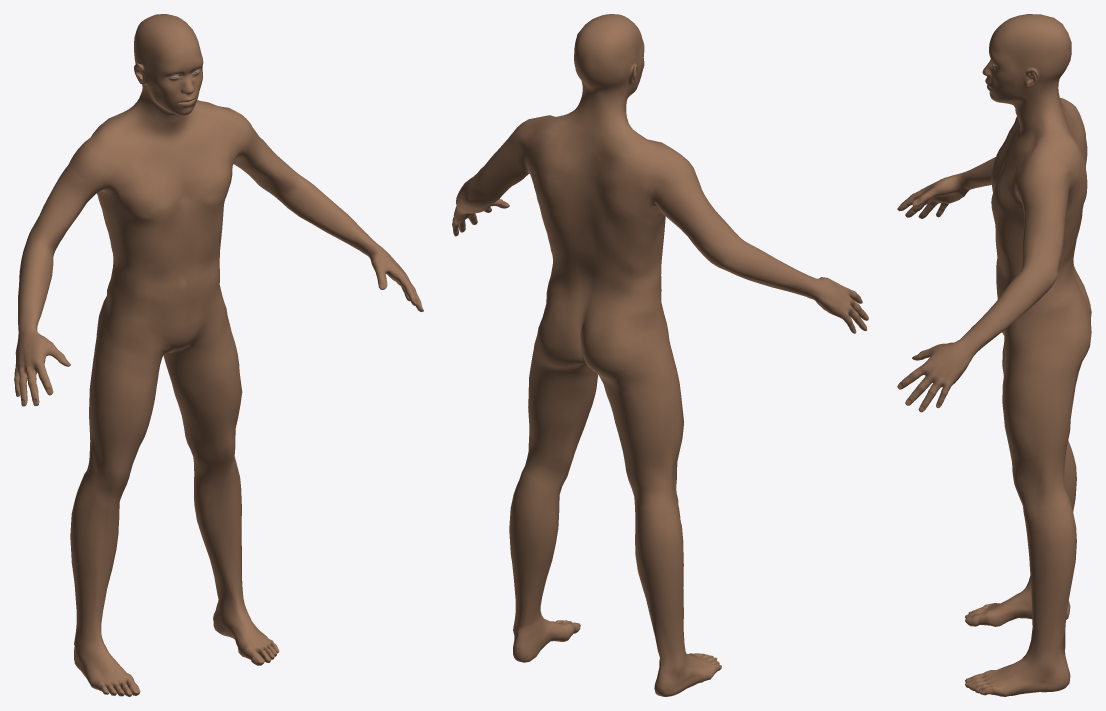
Rendered from male_data.obj.
3 renders of one model, left to right at view 1: azimuth 30°, elevation 25°; view 2: azimuth 150°, elevation 25°; view 3: azimuth 270°, elevation 25°, orthographic.
Parts seen in each view (by area): view 1: base.obj; view 2: base.obj; view 3: base.obj.
Boxes of the visible parts, x1,y1,x2,y2 form: base.obj: (14, 14, 423, 696); base.obj: (452, 14, 868, 696); base.obj: (897, 14, 1091, 696).
Size of the model in its own units: 1.13 by 1.73 by 0.4772.
